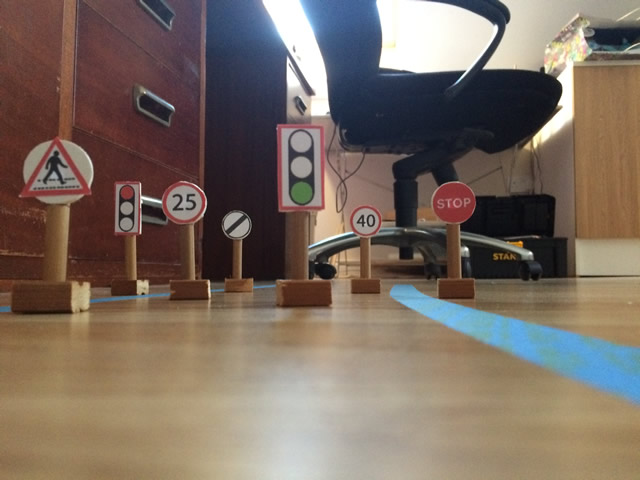Full Speed: (221, 209, 251, 236)
Green Traffic Light: (274, 122, 325, 211)
Person Crossing: (21, 139, 92, 206)
Red Traffic Light: (113, 181, 142, 235)
Speed Limit 25: (162, 180, 206, 222)
Speed Limit 40: (349, 206, 383, 238)
Stop Sign: (432, 180, 475, 221)
